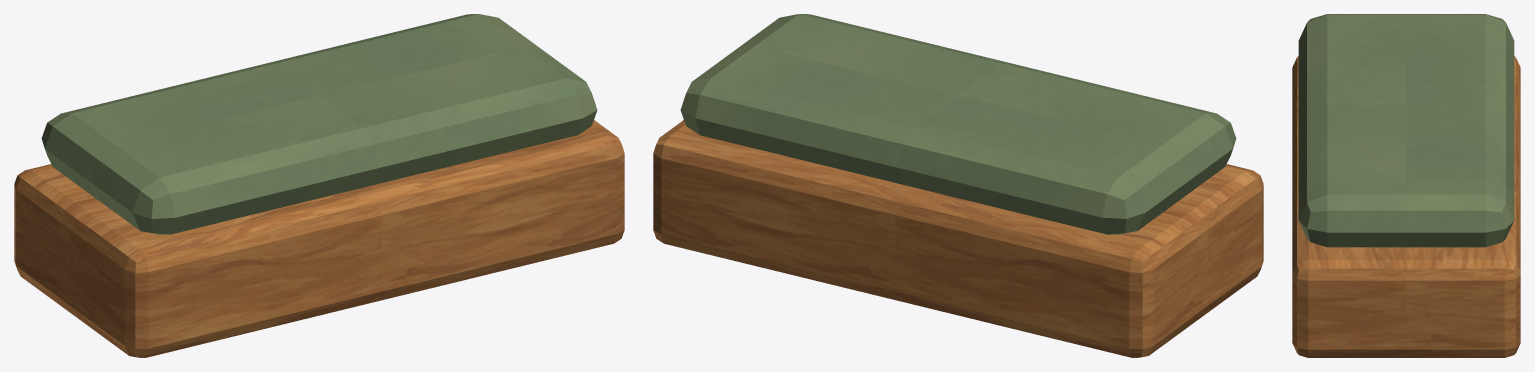
Rendered from WC_CAFE_Cat_Cushion_A.glb.
The picture shows the model from 3 angles, left to right: view 1: azimuth 30°, elevation 25°; view 2: azimuth 150°, elevation 25°; view 3: azimuth 270°, elevation 25°; orthographic projection. The views are drawn at different scales.
Visible parts, largest first — view 1: WC_CAFE_Cat_Cushion_A_RenderMesh; view 2: WC_CAFE_Cat_Cushion_A_RenderMesh; view 3: WC_CAFE_Cat_Cushion_A_RenderMesh.
Part boxes in pixels (box(x1,y1,x2,y2)): WC_CAFE_Cat_Cushion_A_RenderMesh: box(14, 14, 624, 357); WC_CAFE_Cat_Cushion_A_RenderMesh: box(653, 14, 1263, 357); WC_CAFE_Cat_Cushion_A_RenderMesh: box(1292, 14, 1520, 357).
Size of the model in its own units: 0.82 by 0.26 by 0.36.
2 materials, 2 textured.
